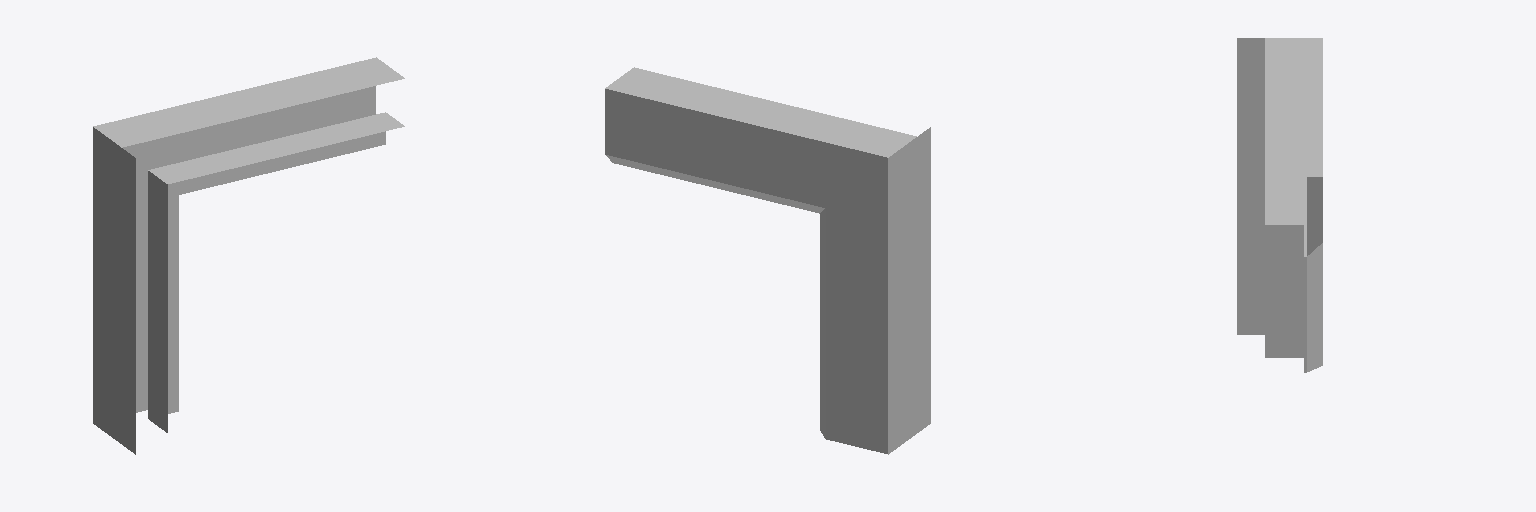
Rendered from original-116.obj.
3 views of the same model, side by side, from view 1: azimuth 30°, elevation 25°; view 2: azimuth 150°, elevation 25°; view 3: azimuth 270°, elevation 25° (orthographic).
Visible parts, largest first — view 1: #ID718; view 2: #ID718; view 3: #ID718.
Boxes of the visible parts, <box> form: #ID718: <box>93,57,404,454</box>; #ID718: <box>605,67,930,454</box>; #ID718: <box>1237,38,1322,372</box>.
Size of the model in its own units: 0.1274 by 0.1274 by 0.0332.